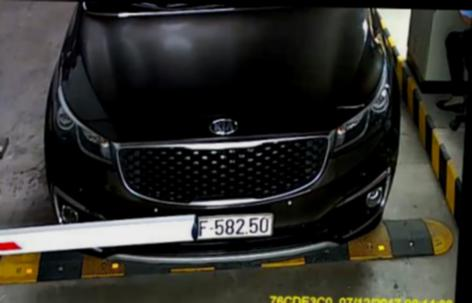License_Plate: (193, 212, 277, 243)
